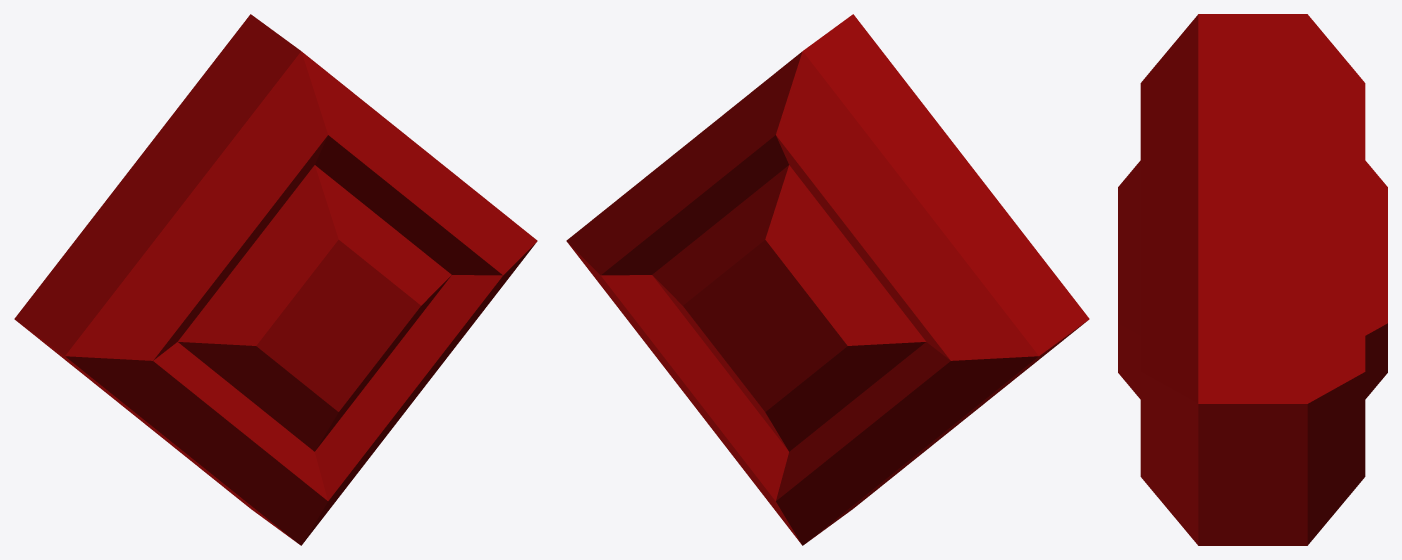
The model's file is triangle.fbx.
3 views of the same model, side by side, from view 1: azimuth 30°, elevation 25°; view 2: azimuth 150°, elevation 25°; view 3: azimuth 270°, elevation 25° (orthographic). The views are drawn at different scales.
Parts seen in each view (by area): view 1: pCube1; view 2: pCube1; view 3: pCube1.
Boxes of the visible parts, box(x1,y1,x2,y2) form: pCube1: box(14, 14, 537, 545); pCube1: box(566, 14, 1089, 545); pCube1: box(1118, 14, 1387, 545).
Bounding box in the file's own units: 2.58 × 2.58 × 1.19.
